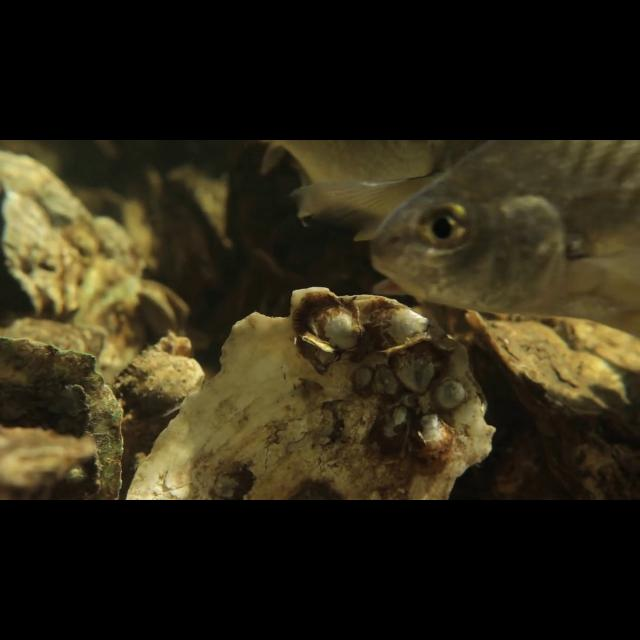Oyster-Closed: (126, 284, 497, 500), (0, 337, 124, 500), (465, 309, 635, 421), (2, 176, 86, 321), (112, 350, 203, 426)
